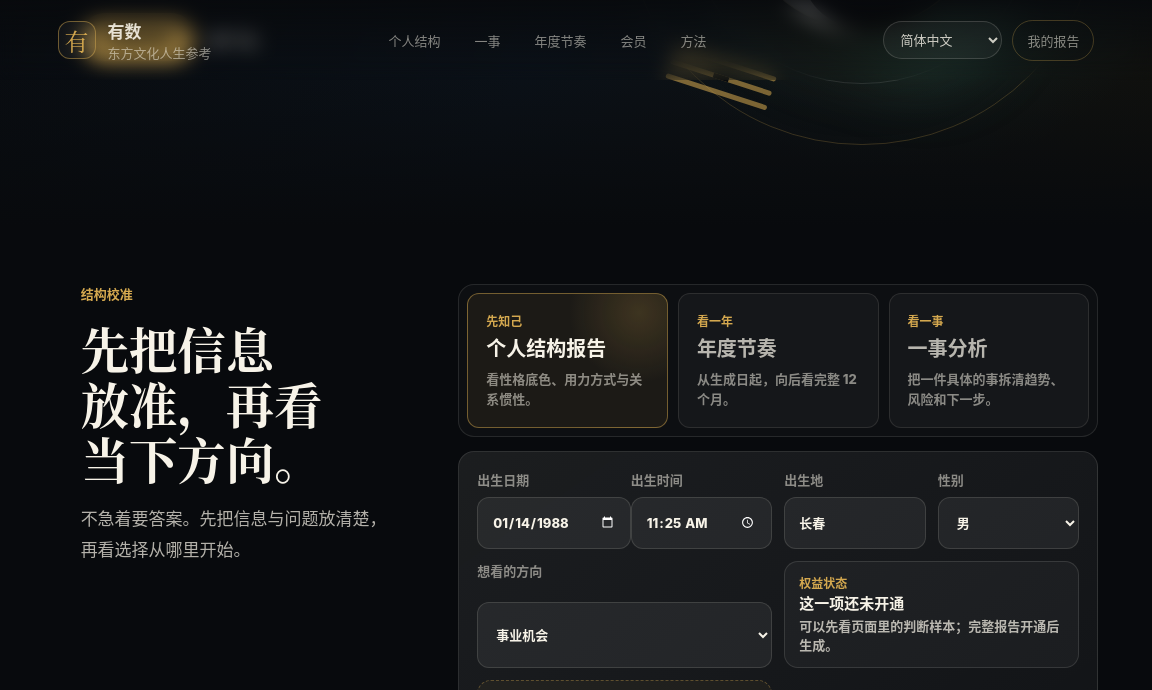
Youshu homepage › switches the entry form by product before generation
(page scrolled)
Expected: the field labelled "想分析的事" is not shown
Expected: the text "这一项还未开通" is shown, [799, 594, 904, 613]
Click the button "看一年 年度节奏 从生成日起，向后看完整 12 个月。".
click(778, 360)  # box [678, 292, 879, 428]
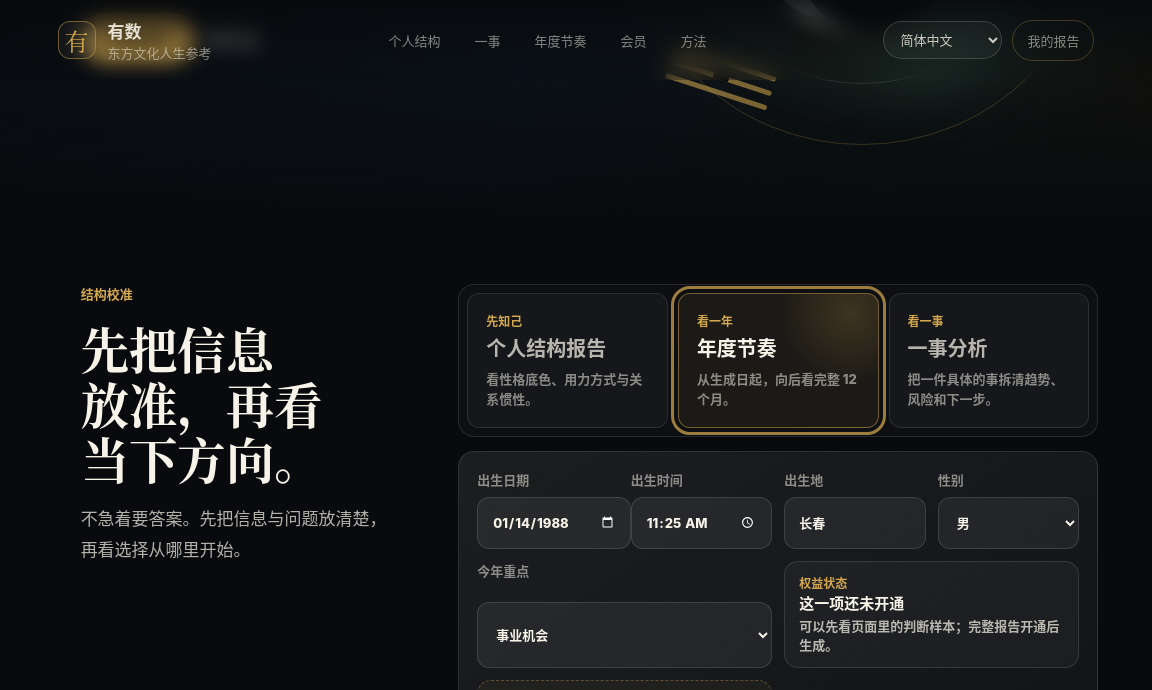
Expected: the text "从生成日起，向后看完整 12 个月。" is shown, [697, 368, 860, 409]
Now the button "看一年 年度节奏 从生成日起，向后看完整 12 个月。" is pressed, box [678, 292, 879, 428]
Click the button "看一事 一事分析 把一件具体的事拆清趋势、风险和下一步。".
click(989, 360)  # box [888, 292, 1089, 428]
(page scrolled)
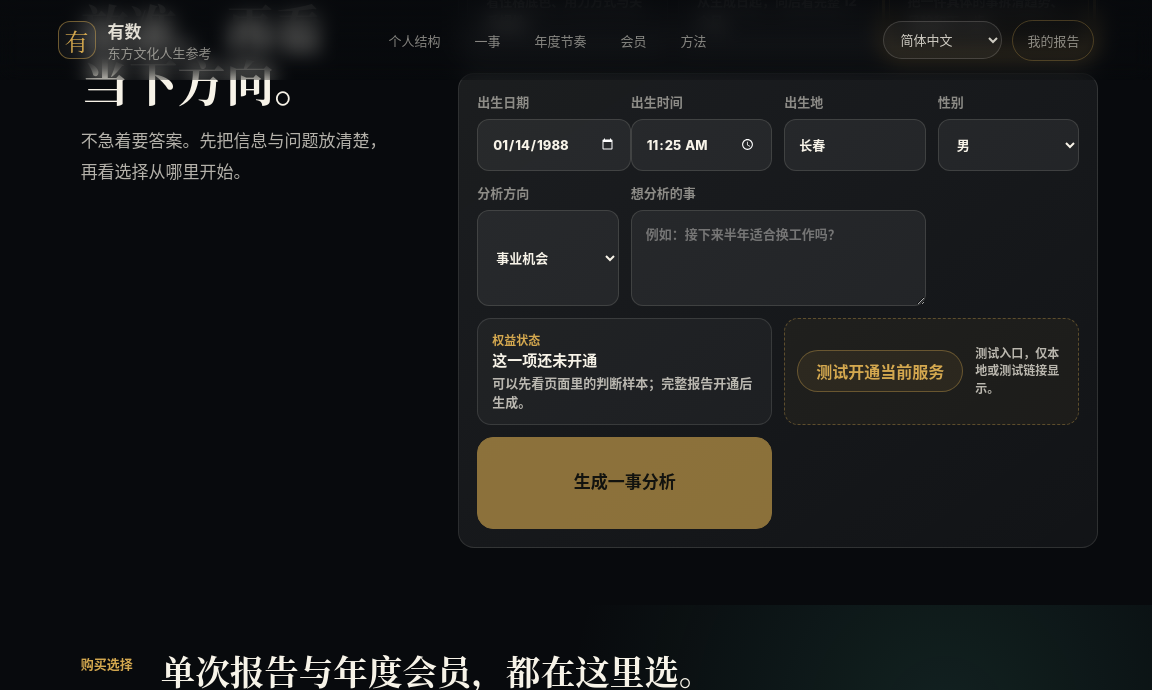
Expected: the text "这一项还未开通" is shown, [492, 351, 597, 370]
Now the text box with placeholder "例如：接下来半年适合换工作吗？" is shown, box [631, 210, 926, 306]
Now the button "生成一事分析" is shown, box [477, 436, 772, 528]
